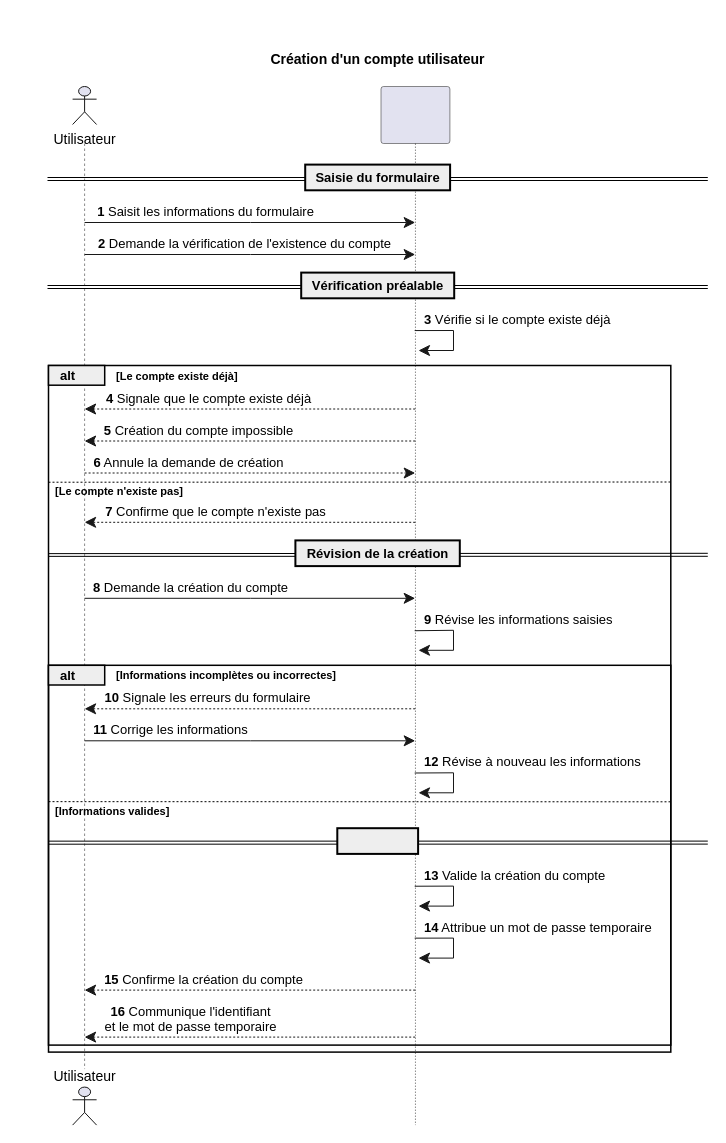
Some shapes in this 726 by 1143 pixel diagram are drawn without their labels. Each missing label, with the box of its shape:
Système: (380, 86, 450, 1125)
Validation: (336, 827, 419, 854)
